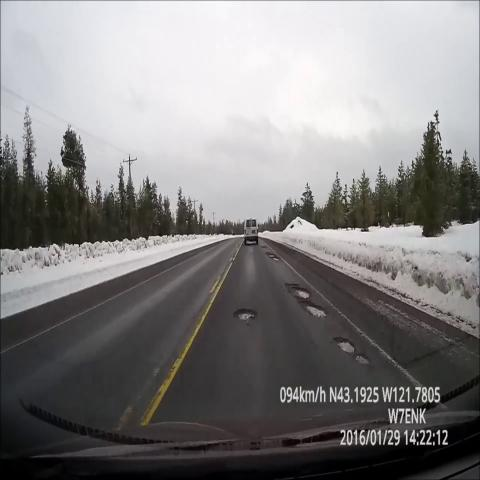pothole: (283, 275, 332, 327), (330, 331, 374, 370), (230, 304, 259, 330), (265, 248, 282, 271), (257, 238, 271, 256)
